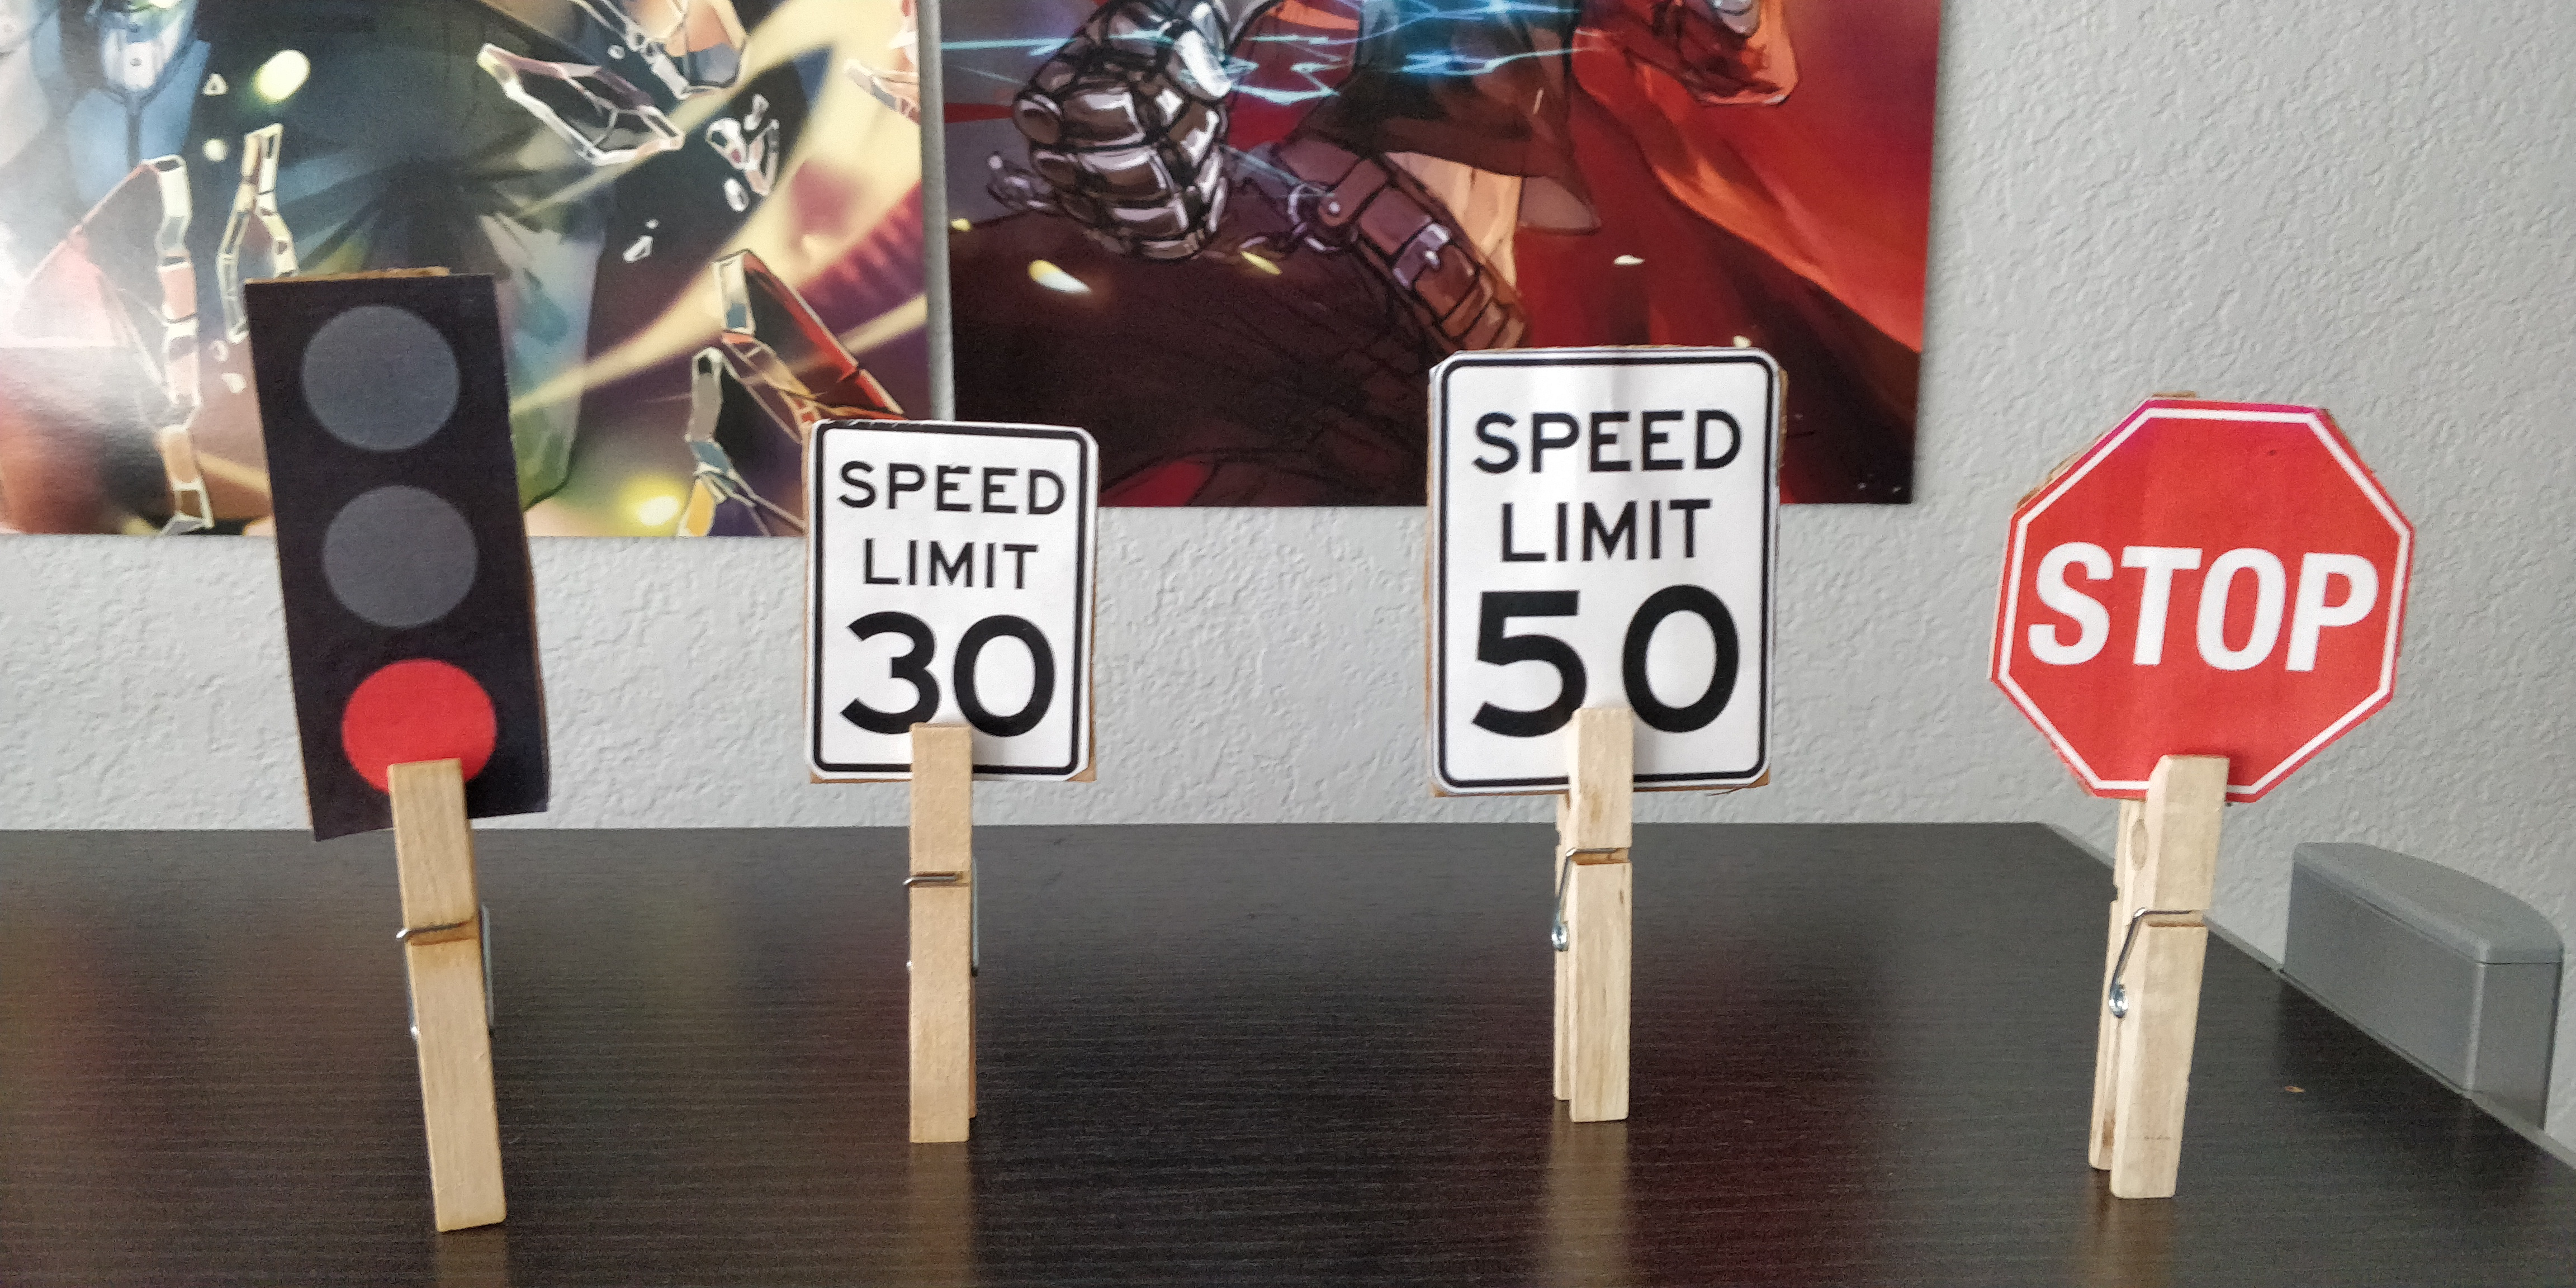Speed Limit 30: (817, 416, 1097, 789)
Speed Limit 50: (1428, 352, 1783, 795)
Stop Sign: (1991, 394, 2413, 798)
red light: (241, 274, 552, 833)
